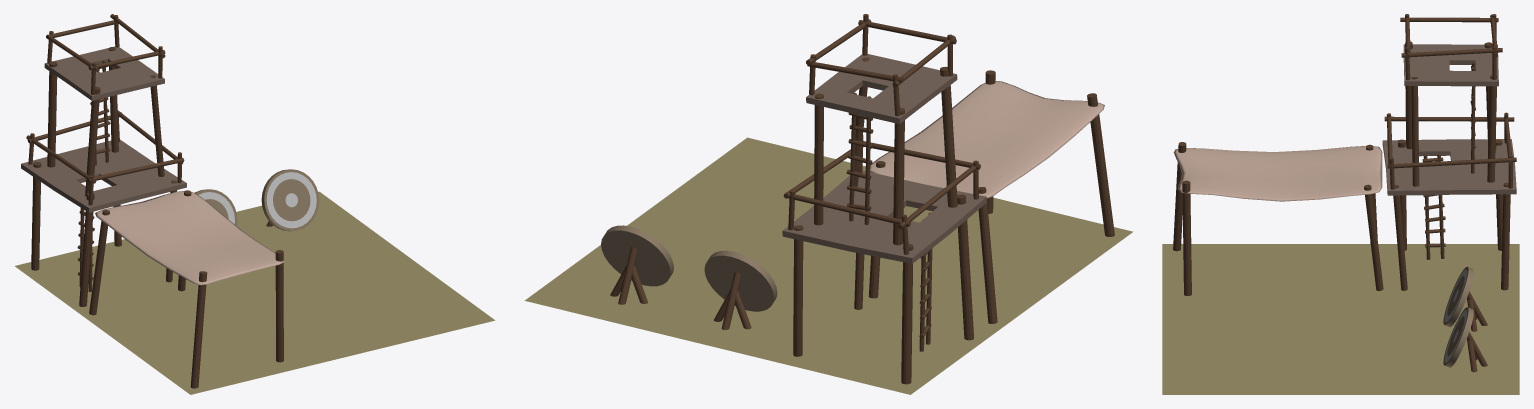
Rendered from ArcheryRange.fbx.
The picture shows the model from 3 angles, left to right: view 1: azimuth 30°, elevation 25°; view 2: azimuth 150°, elevation 25°; view 3: azimuth 270°, elevation 25°; orthographic projection. The views are drawn at different scales.
Visible parts, largest first — view 1: Ground1; view 2: Ground1; view 3: Ground1.
Part boxes in pixels (x1,y1,x2,y2): Ground1: (15, 14, 495, 394); Ground1: (524, 14, 1133, 394); Ground1: (1162, 14, 1519, 394).
Bounding box in the file's own units: 25 × 19.06 × 25.
